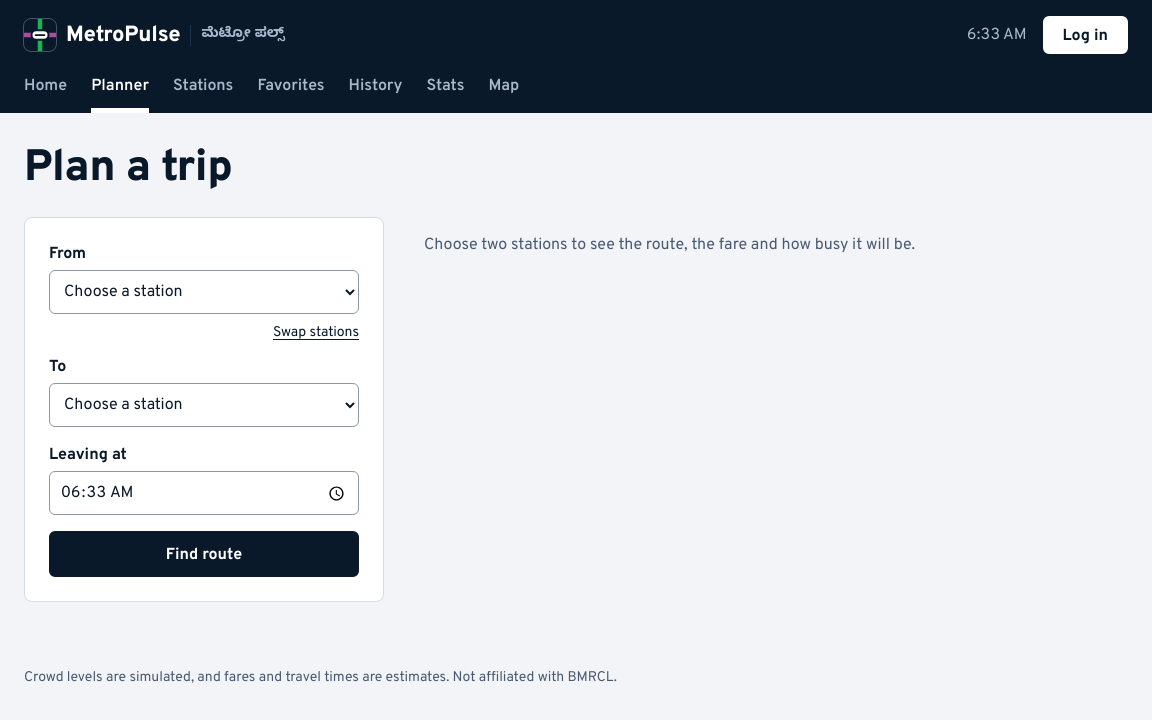
Test: a route that arrives after the trip changed is ignored
Check: the heading "Plan a trip" is shown, box x1=24 y1=141 x2=232 y2=197
Select "Central College" in the dropdown labelled "From": (204, 292) x1=49 y1=270 x2=359 y2=314
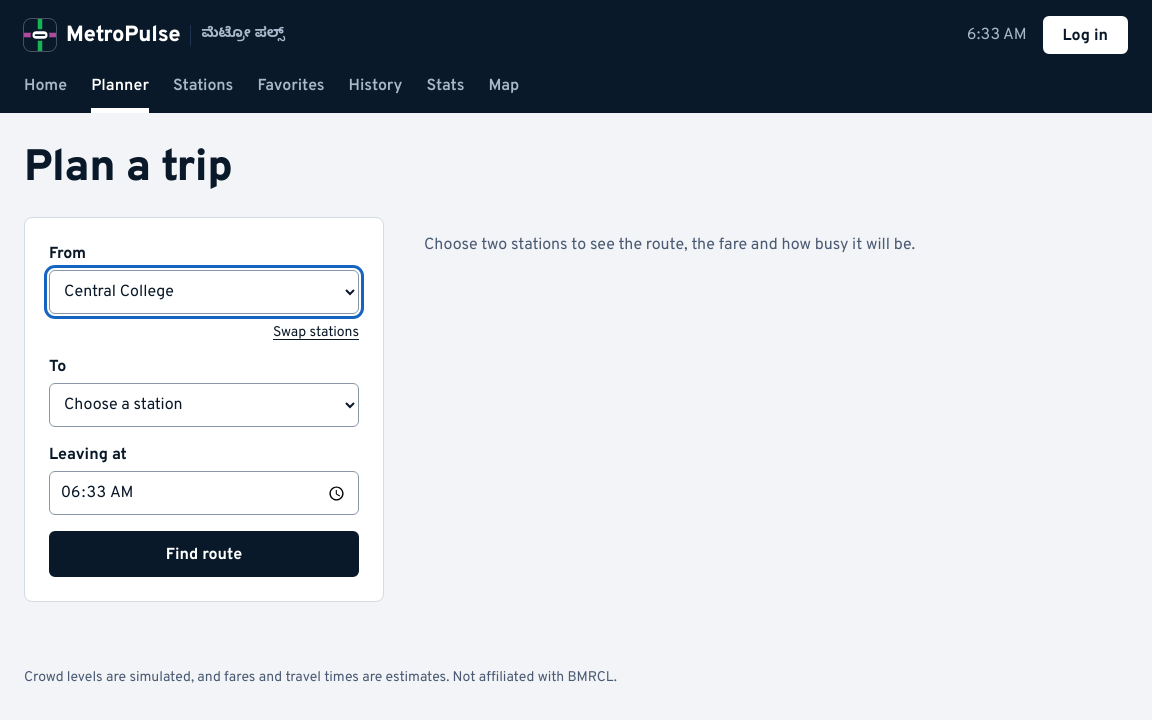
Select "Chickpete" in the dropdown labelled "To": (204, 405) x1=49 y1=383 x2=359 y2=427
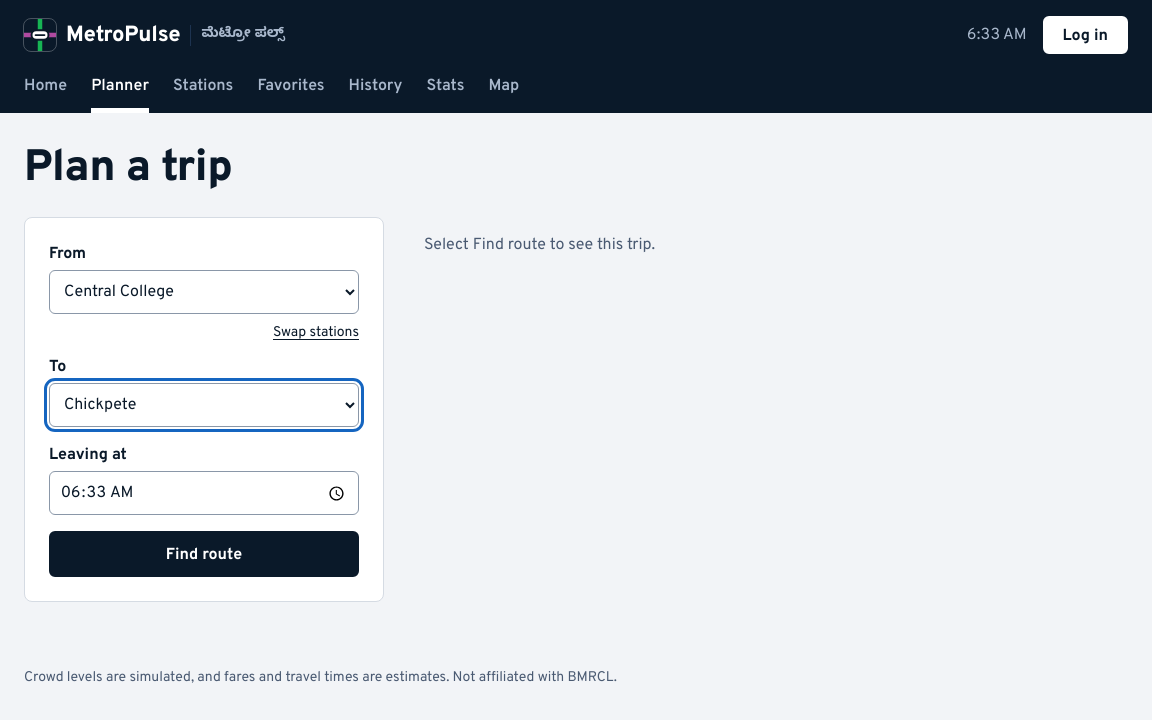
Click the button "Find route": (204, 554) x1=49 y1=531 x2=359 y2=577
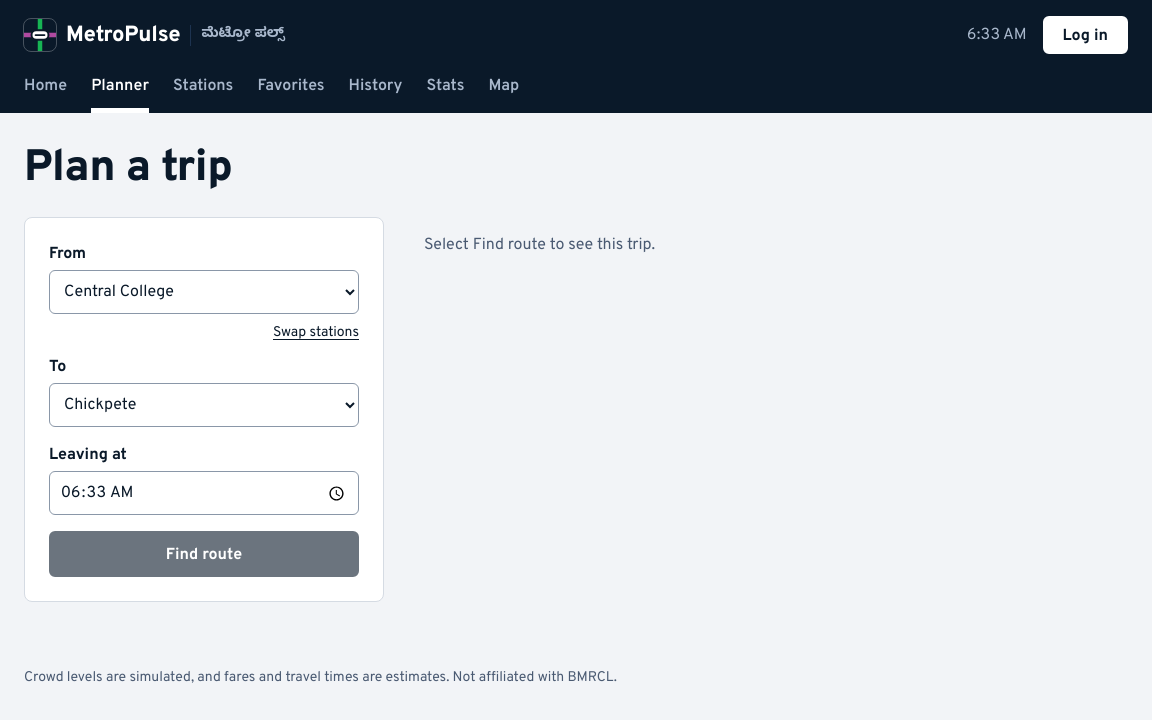
Select "Ragigudda" in the dropdown labelled "To": (204, 405) x1=49 y1=383 x2=359 y2=427
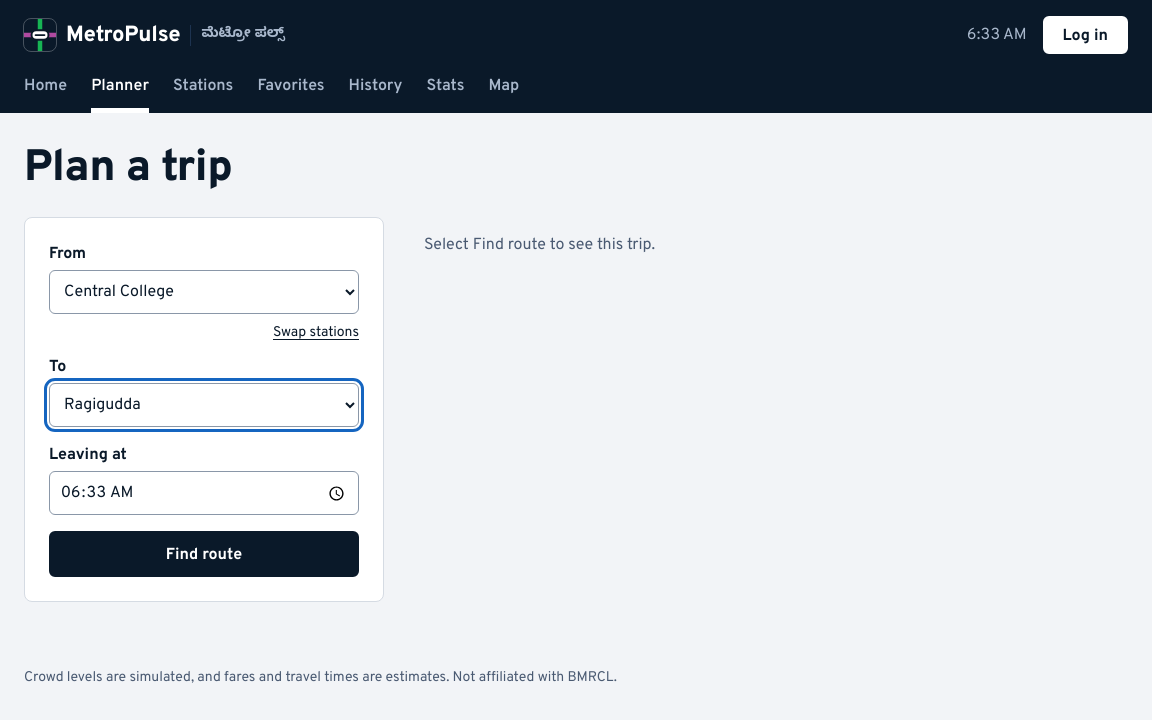
Check: the button "Find route" is enabled, box x1=49 y1=531 x2=359 y2=577
